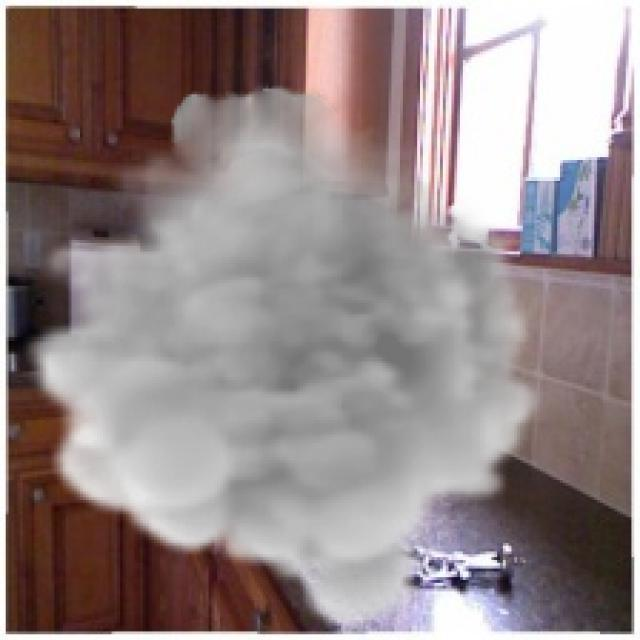Smoke: (23, 82, 543, 634)
